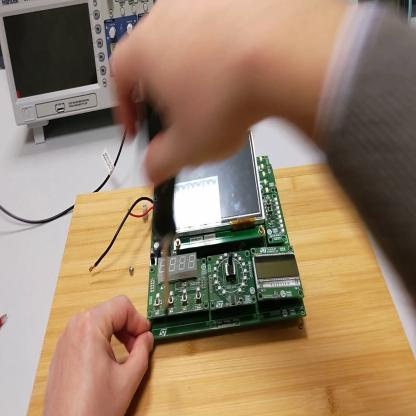hand: (113, 4, 274, 181), (44, 296, 154, 416)
low voltage board: (91, 129, 307, 344)
oscilloscope: (2, 4, 161, 146)
screwdriver-: (145, 102, 180, 309)
welder station: (360, 1, 415, 30)
working area: (27, 159, 414, 412)
